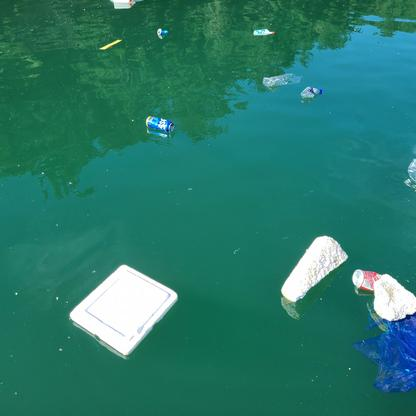can: (353, 269, 386, 290), (144, 115, 175, 133), (155, 27, 170, 35)
foam: (68, 263, 179, 354), (280, 231, 347, 299), (373, 272, 416, 319)
plastic bag: (360, 311, 416, 394)
plastic bottle: (301, 85, 325, 99)
